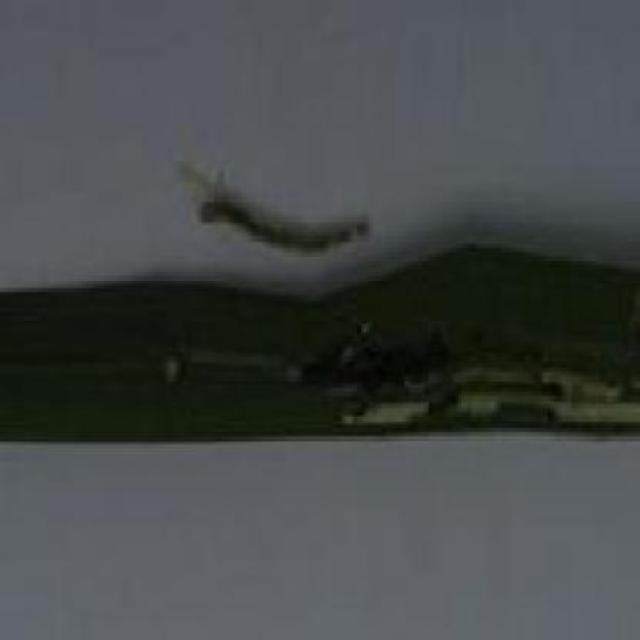leaf-folder: (178, 132, 385, 268)
